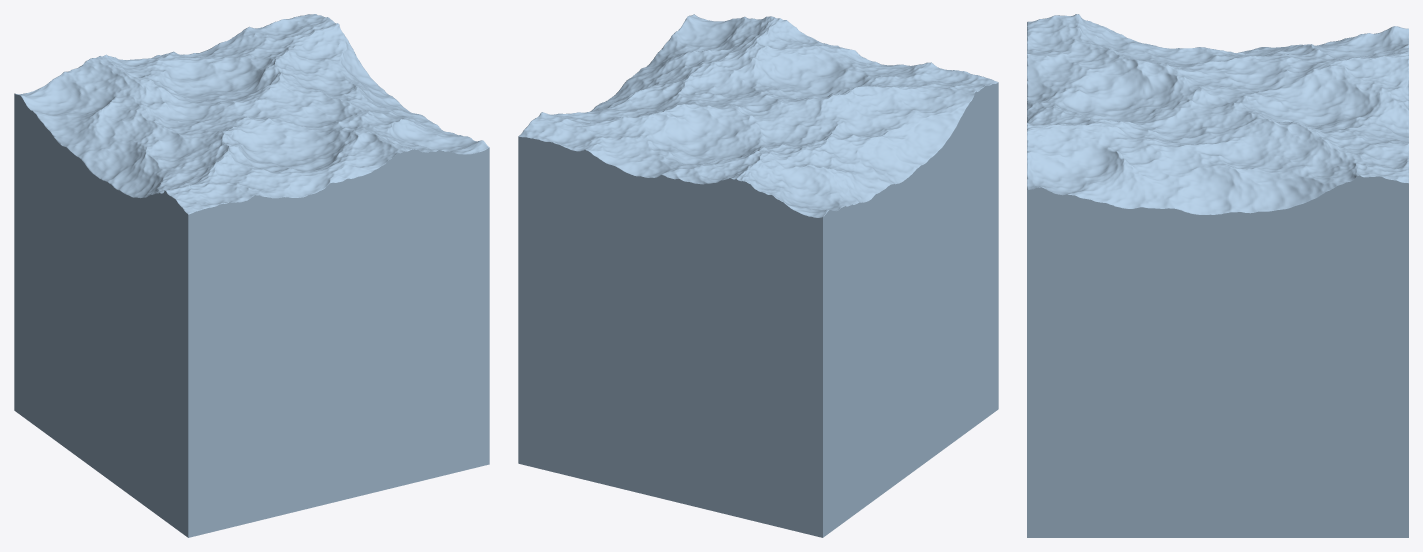
File: ocean1.glb
3 views of the same model, side by side, from view 1: azimuth 30°, elevation 25°; view 2: azimuth 150°, elevation 25°; view 3: azimuth 270°, elevation 25° (orthographic). The views are drawn at different scales.
Visible parts, largest first — view 1: ocean; view 2: ocean; view 3: ocean.
Boxes of the visible parts, x1,y1,x2,y2 form: ocean: (14,14,489,537); ocean: (518,14,998,537); ocean: (1027,14,1408,537).
Size of the model in its own units: 8.34 by 8.84 by 8.34.
